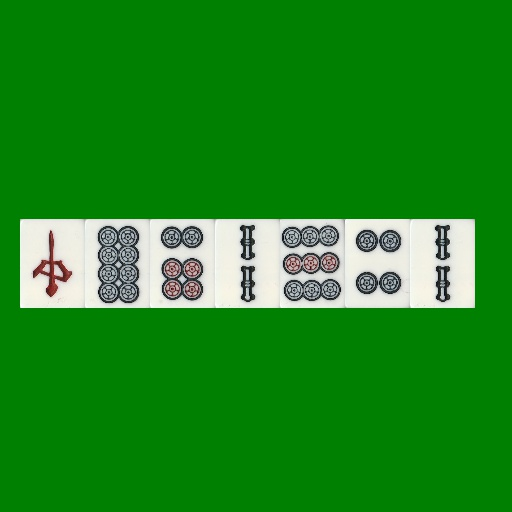2s: (215, 219, 280, 308), (410, 219, 475, 308)
4p: (345, 219, 410, 308)
6p: (150, 219, 215, 308)
8p: (85, 219, 150, 308)
9p: (280, 219, 345, 308)
tyun: (20, 219, 85, 308)
